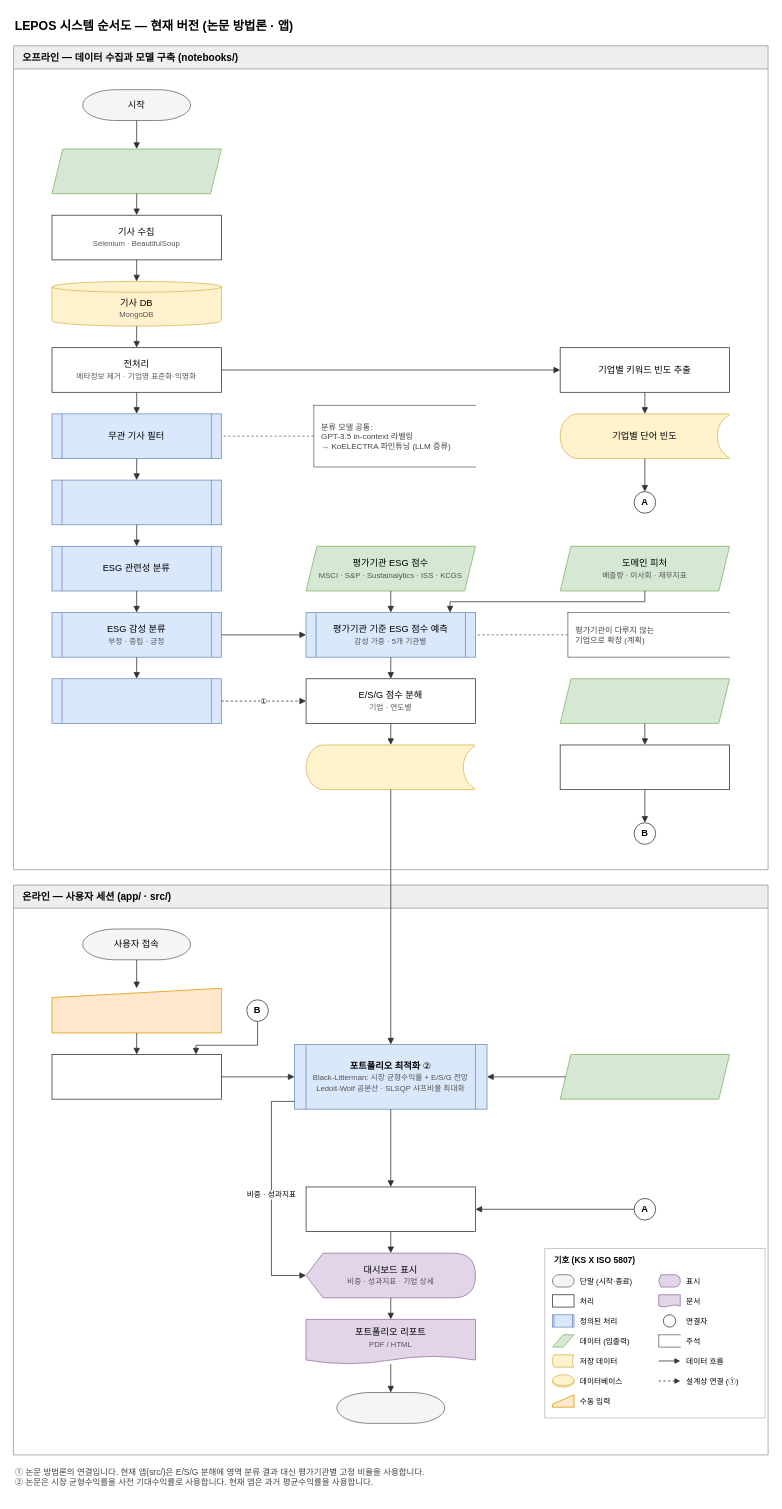
The diagram is 782 pixels wide and 1509 high, and some of its shapes have lost their labels. The centre of each missing label's shape, as x and y in pixels:
"E/S/G 영역 분류" goes at pixel 136 700.
"ESG 점수표 data/processed" goes at pixel 390 767.
"KRX 일별 주가 FinanceDataReader" goes at pixel 644 1076.
"기업 관련성 분류" goes at pixel 136 502.
"네이버 뉴스 기사 KOSPI 68개사 · 2019–2023" goes at pixel 136 171.
"선호도 산출 E/S/G 가중치 · τ" goes at pixel 136 1076.
"설문 문항 설계 문항 ↔ 평가기관 매핑" goes at pixel 644 767.
"설문 응답 15문항 + 투자성향" goes at pixel 136 1010.
"종료" goes at pixel 390 1407.
"평가기관 평가항목 5개 기관 방법론" goes at pixel 644 700.
"포트폴리오 가중 워드클라우드" goes at pixel 390 1209.
